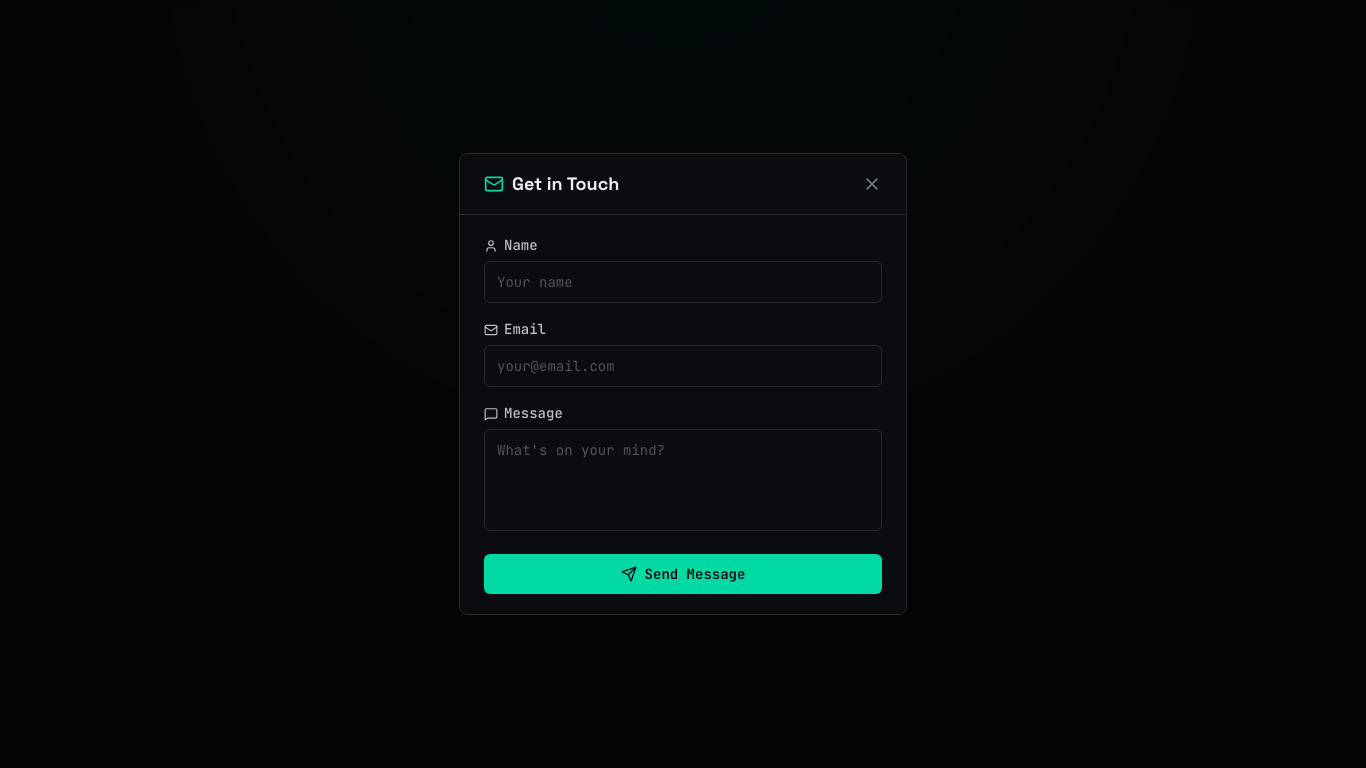
Test: ContactModal › shows a success state after a successful submission
In the field with placeholder "Your name": (683, 282) [484,261,882,303], type "Jane Doe"
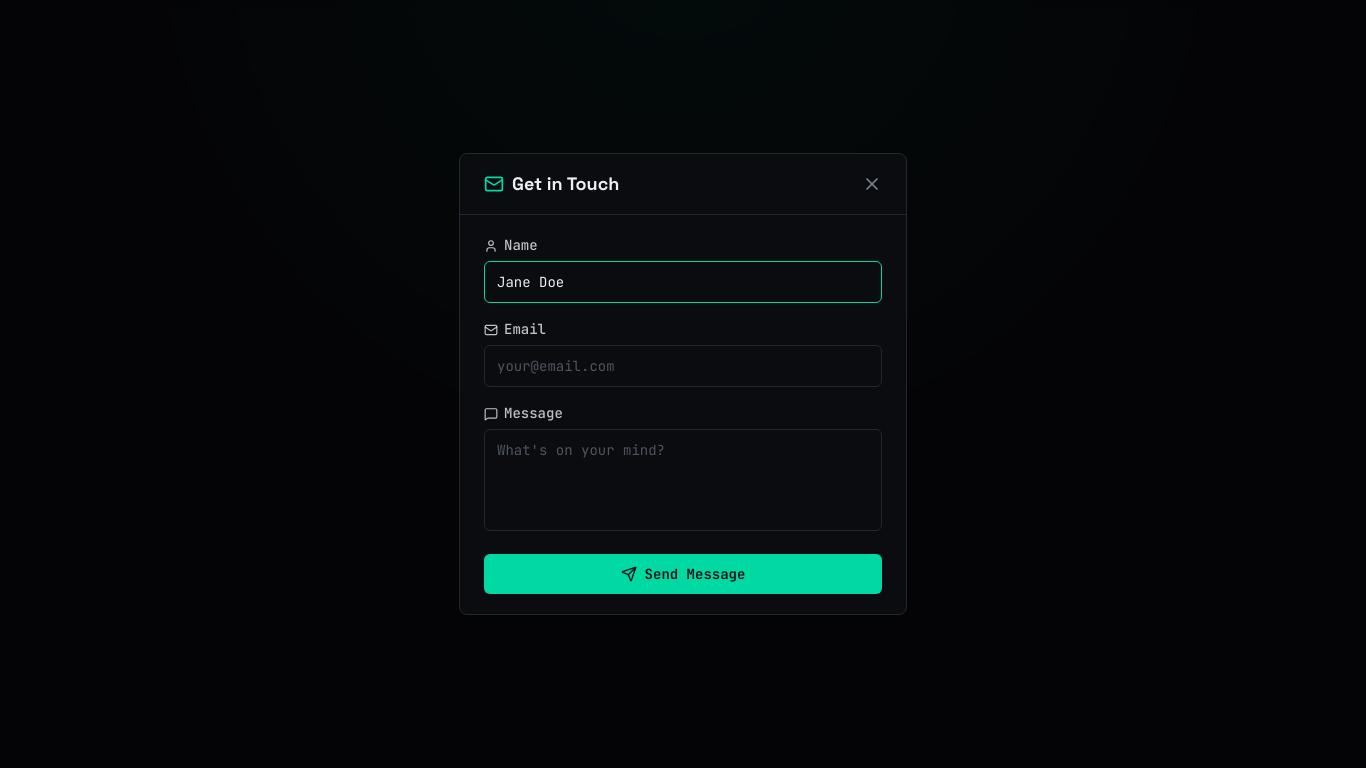
In the field with placeholder "your@email.com": (683, 366) [484,345,882,387], type "jane@example.com"
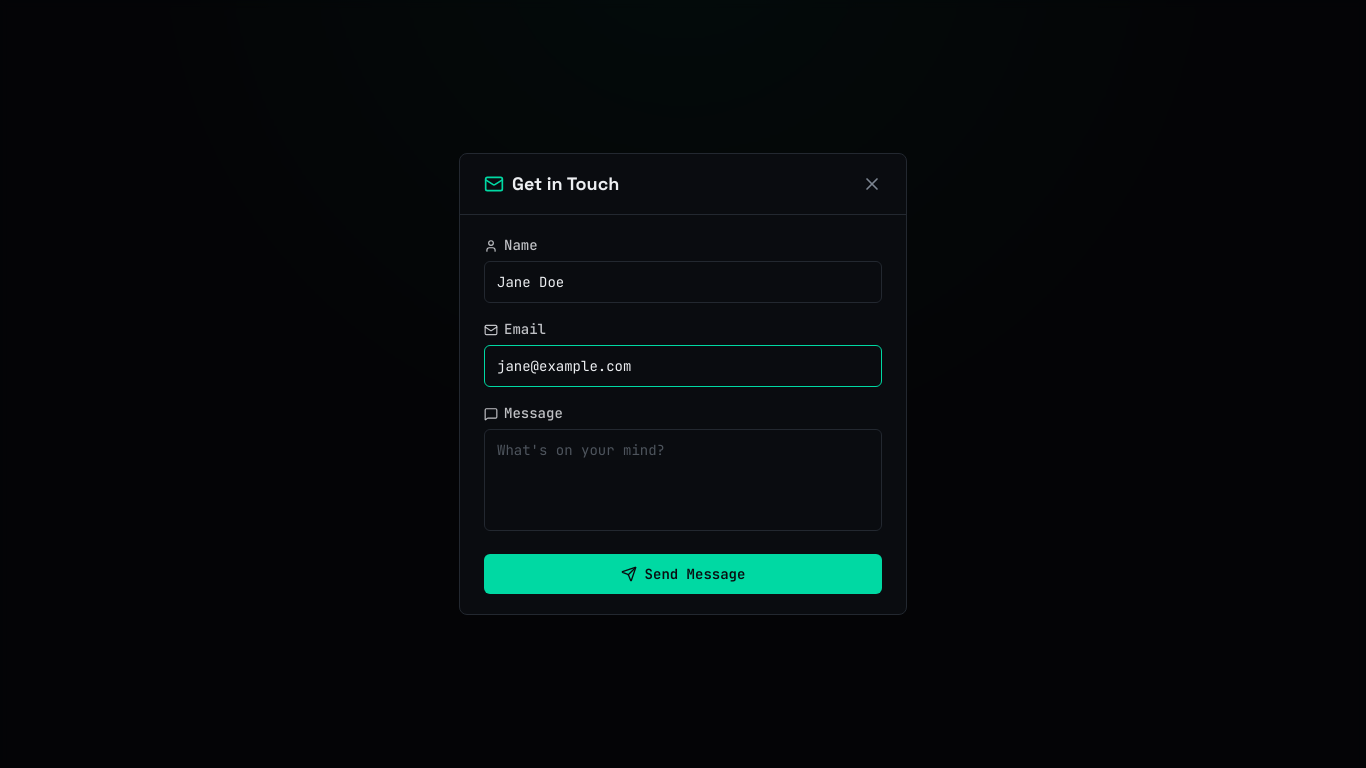
In the text box with placeholder "What's on your mind?": (683, 480) [484,429,882,531], type "Hello there"
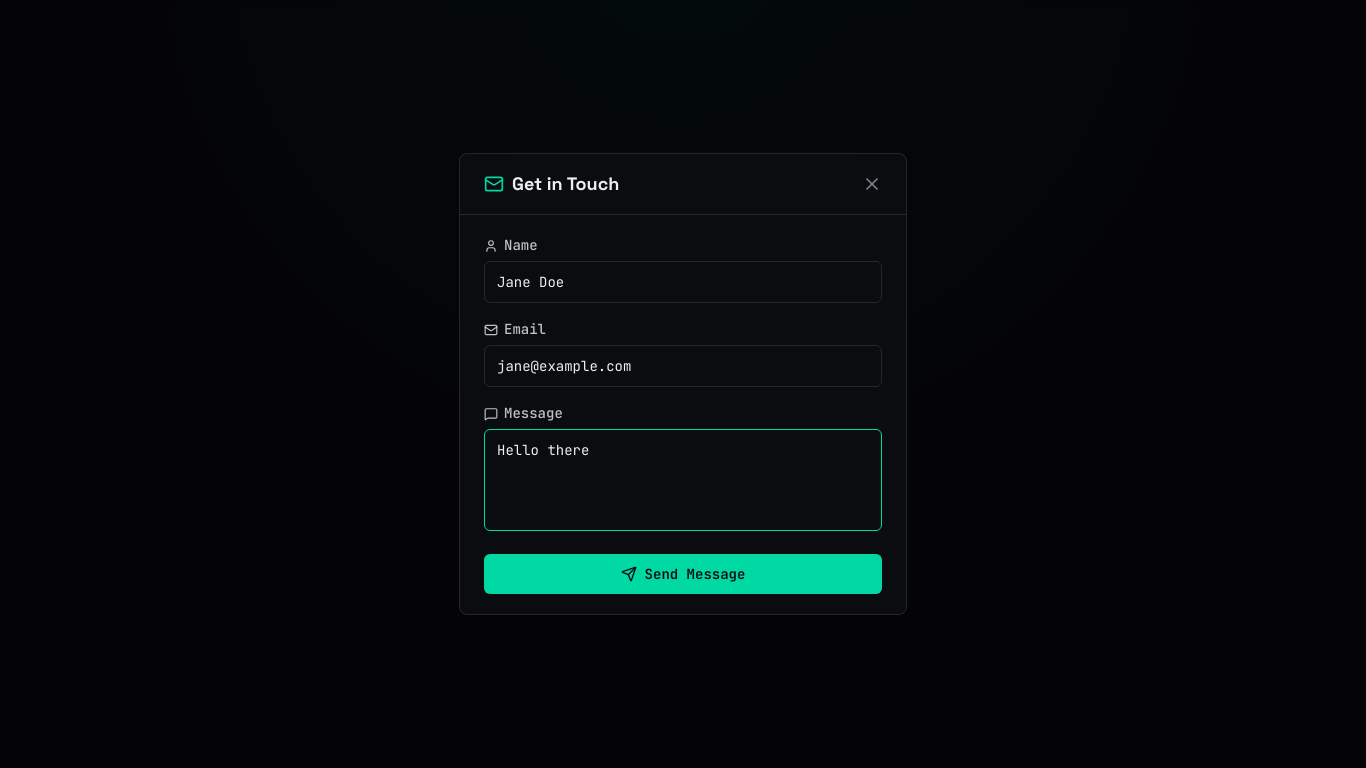
Click the button "Send Message": (683, 574) [484,554,882,594]
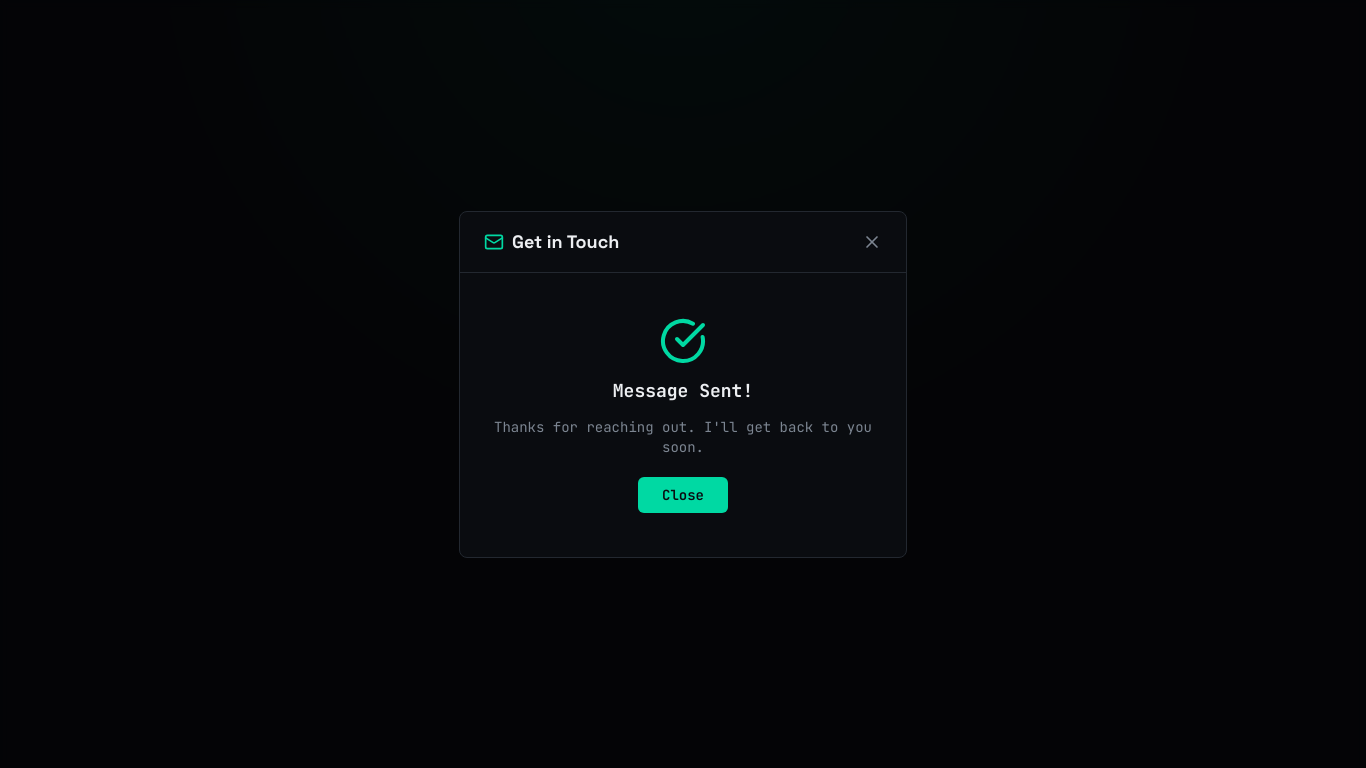
Now the heading "Message Sent!" is shown, box [613,376,753,404]
